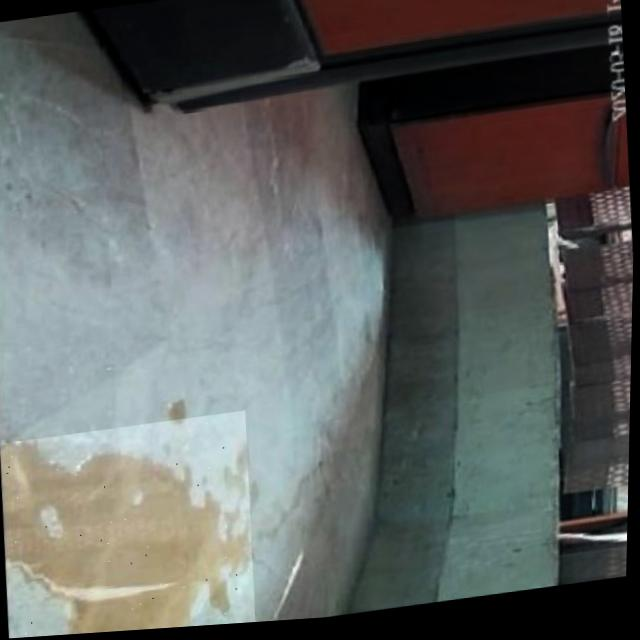spillage: (2, 443, 253, 636)
